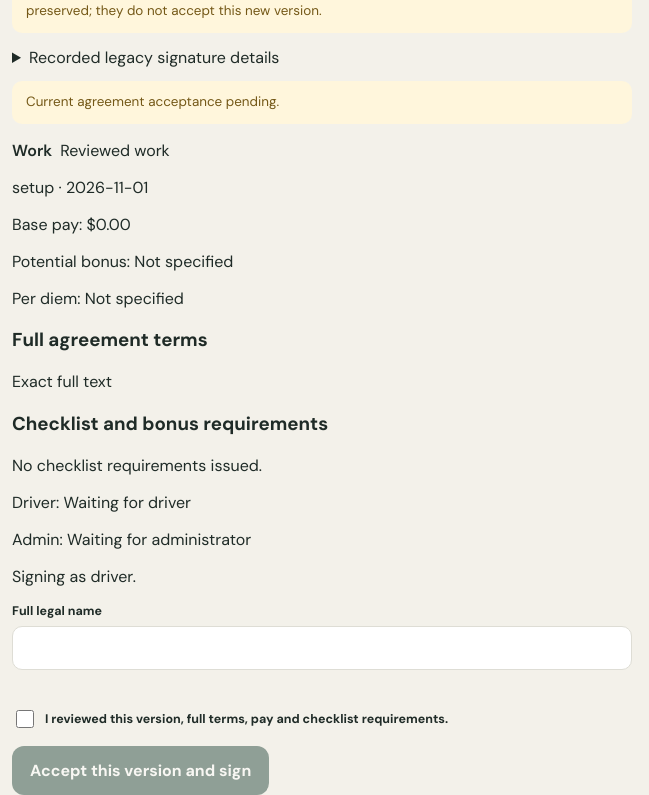
it: changed agreement displays new text and requires a fresh name and acknowledgment
This screenshot has width=649, height=795.
(page scrolled)
Expected: the text "Exact full text" is shown, [12,371,112,392]
Type "Driver Name" into the field labelled "Full legal name" at [322, 648], box [12,626,632,670]
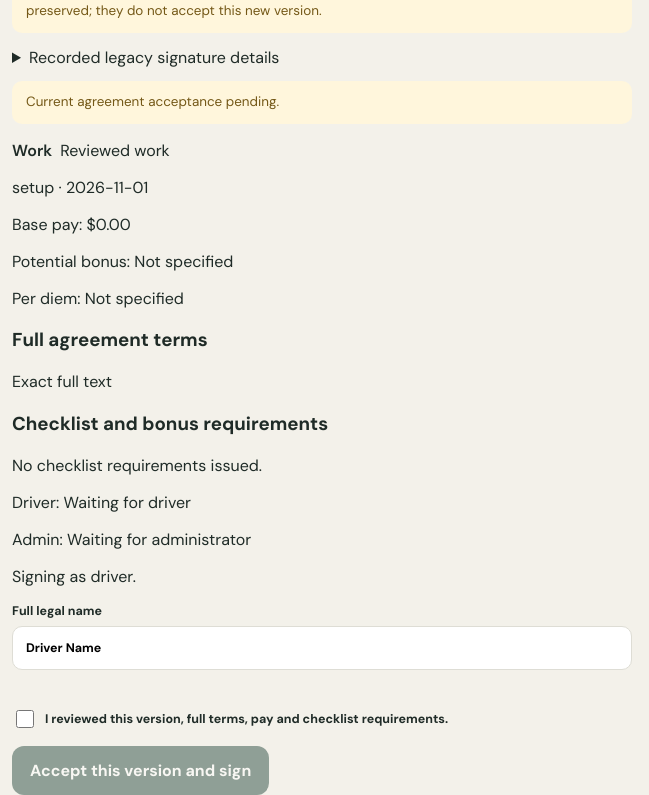
Click the checkbox at [25, 719], box [16,710,34,728]
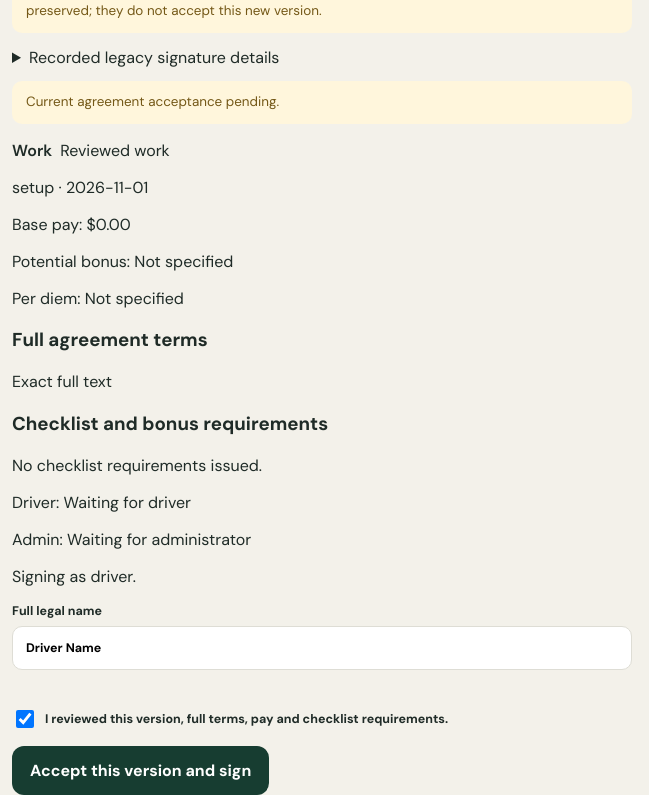
Click the button "Accept this version and sign" at [141, 770], box [12,746,269,794]
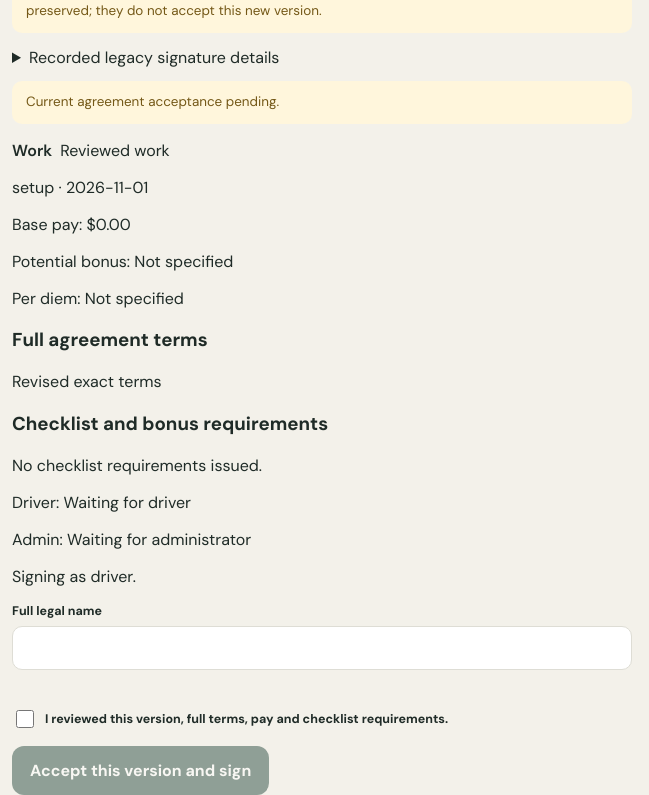
Result: the text "Revised exact terms" is shown at [12,371,162,392]
Result: the text "Exact full text" is gone
Result: the field labelled "Full legal name" is empty at [12,626,632,670]
